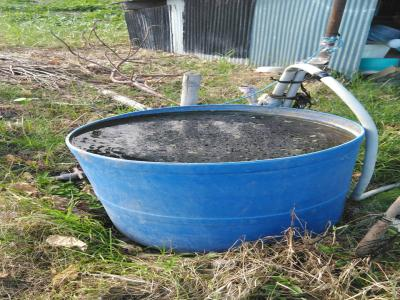bucket: (63, 103, 373, 256)
